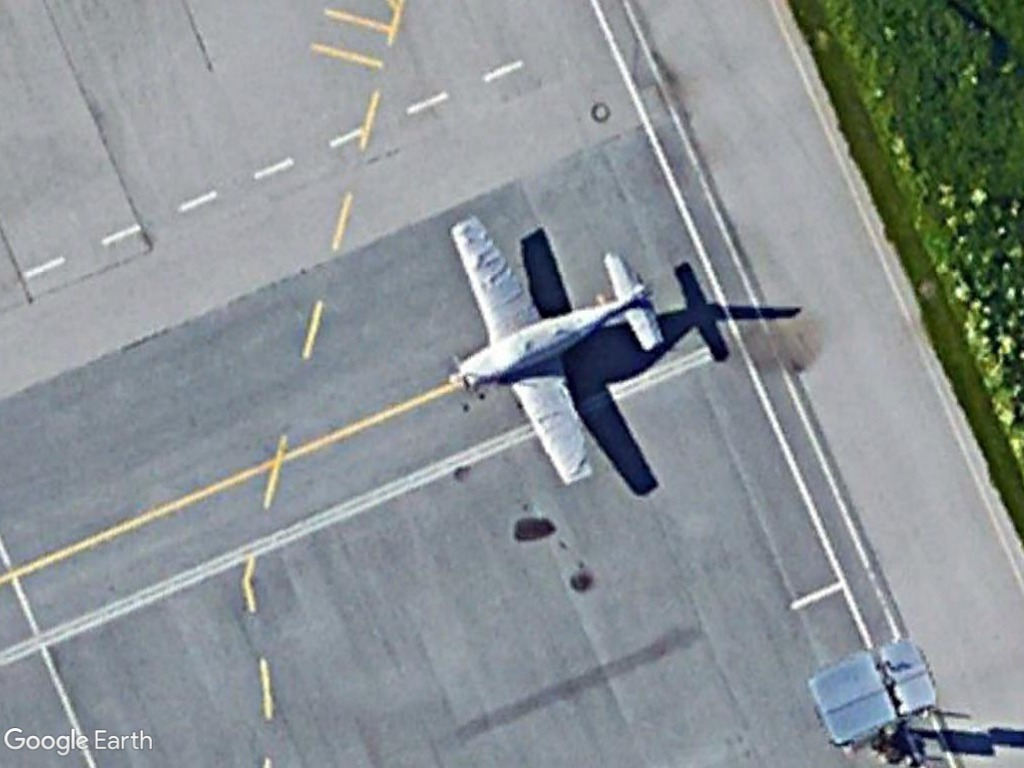trainer: (440, 210, 672, 490)
